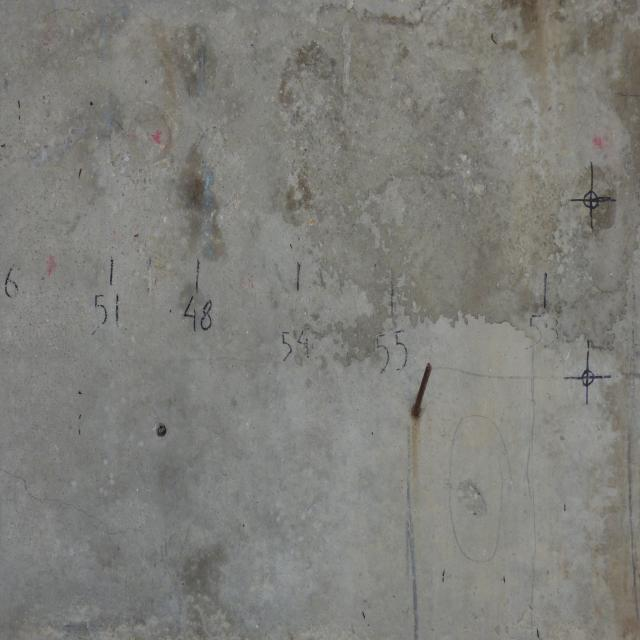corrosion: (408, 353, 431, 497)
